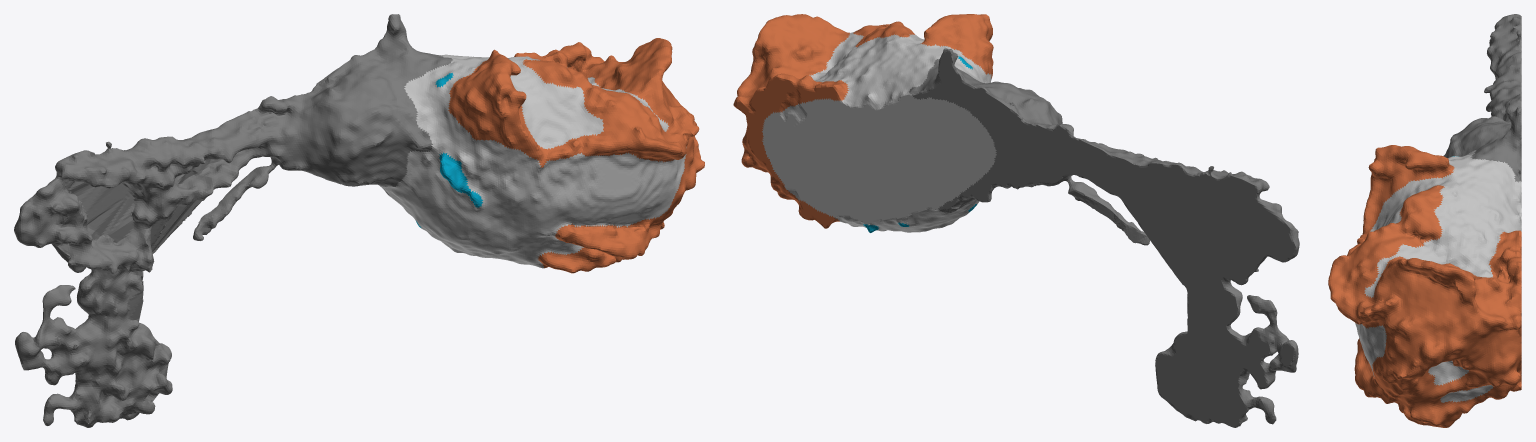
3 views of the same model, side by side, from view 1: azimuth 30°, elevation 25°; view 2: azimuth 150°, elevation 25°; view 3: azimuth 270°, elevation 25° (orthographic). The views are drawn at different scales.
Bounding box in the file's own units: 266 × 136 × 74.22.
